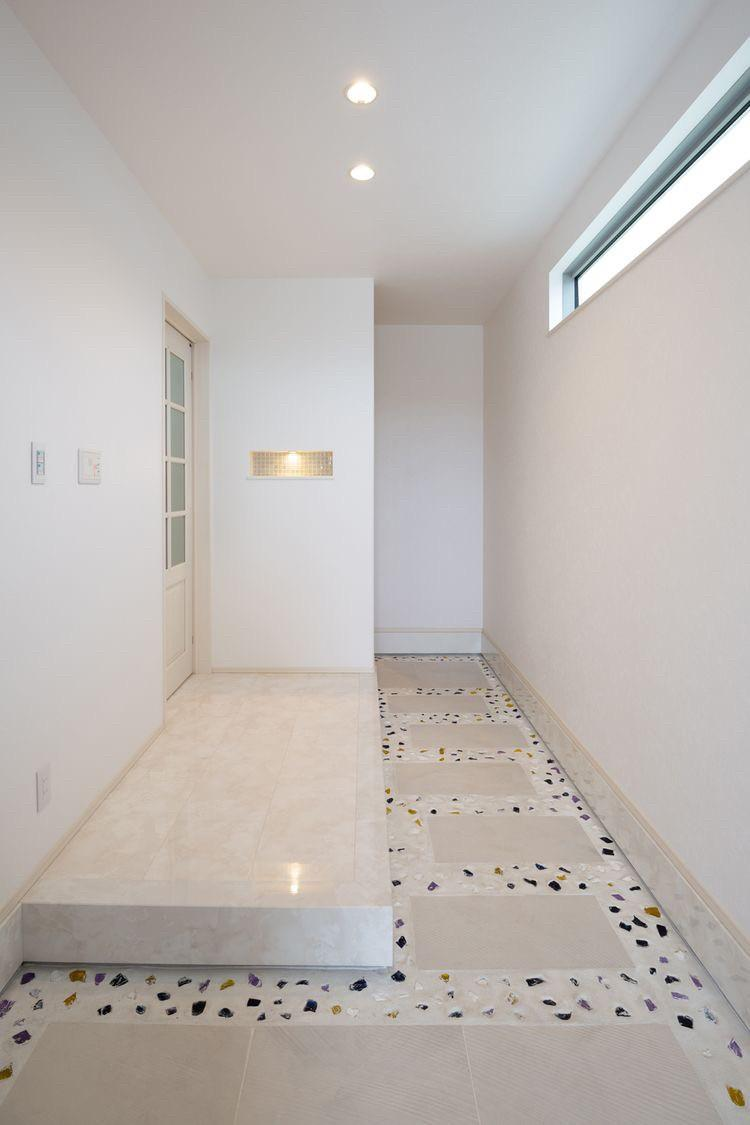floor: (0, 653, 749, 1124)
safe: (18, 672, 392, 908)
